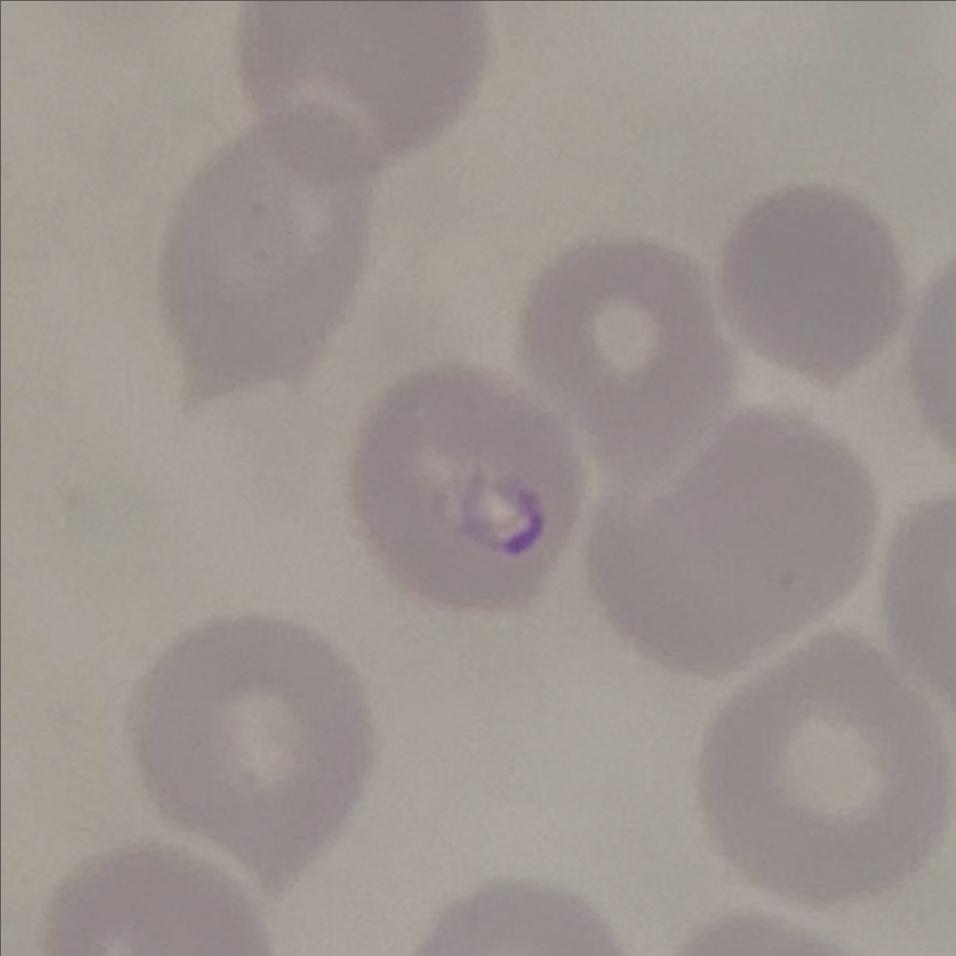Infected: (358, 363, 581, 616)
Uninfected: (593, 406, 881, 680), (135, 611, 379, 898), (152, 108, 378, 411), (708, 628, 946, 910), (522, 241, 732, 471), (252, 0, 484, 179), (715, 186, 901, 381)
